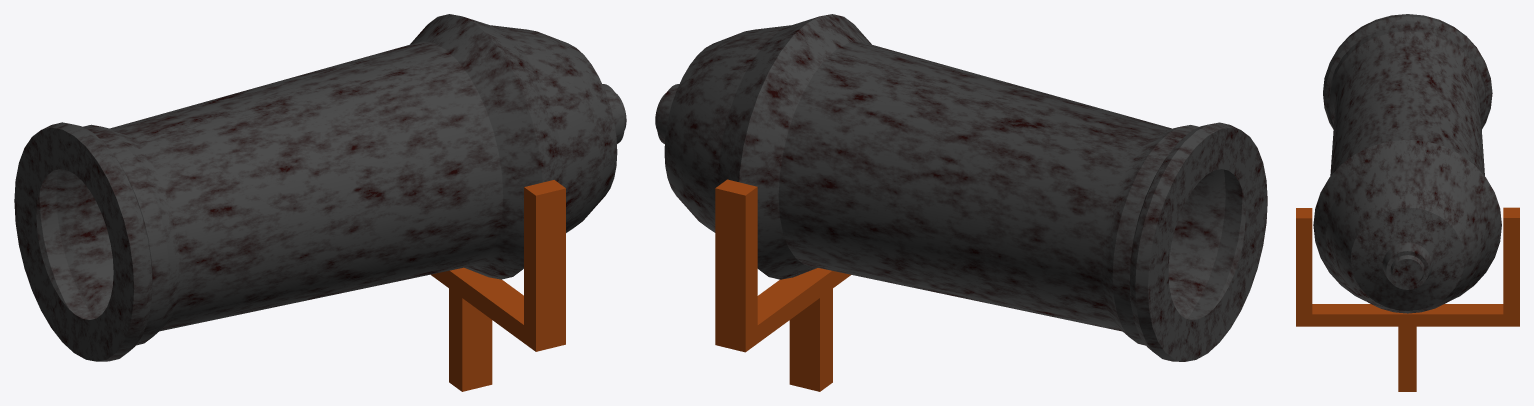
Rendered from пушка (2).fbx.
3 views of the same model, side by side, from view 1: azimuth 30°, elevation 25°; view 2: azimuth 150°, elevation 25°; view 3: azimuth 270°, elevation 25° (orthographic). The views are drawn at different scales.
Visible parts, largest first — view 1: Cylinder, Cube; view 2: Cylinder, Cube; view 3: Cylinder, Cube.
Part boxes in pixels (x1=…): Cylinder: x1=14, y1=14, x2=626, y2=361; Cube: x1=431, y1=180, x2=565, y2=391; Cylinder: x1=655, y1=14, x2=1267, y2=361; Cube: x1=715, y1=179, x2=851, y2=391; Cylinder: x1=1313, y1=14, x2=1501, y2=313; Cube: x1=1296, y1=207, x2=1519, y2=391.
Bounding box in the file's own units: 493 × 312 × 254.
